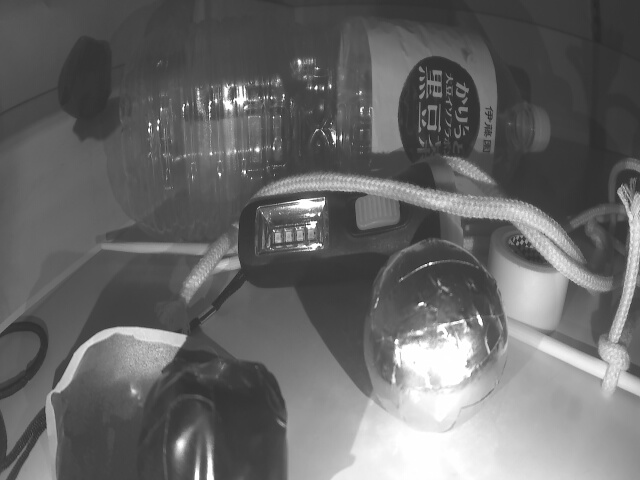Live: (367, 239, 510, 431)
